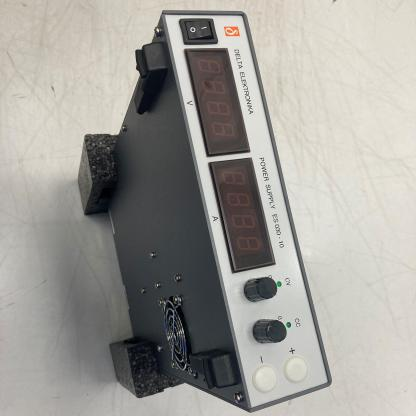SP0000005: (20, 0, 415, 415)
